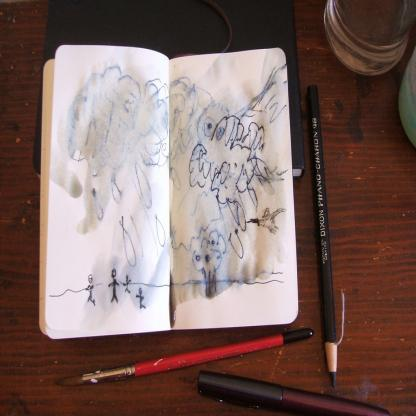book: (40, 46, 300, 325)
